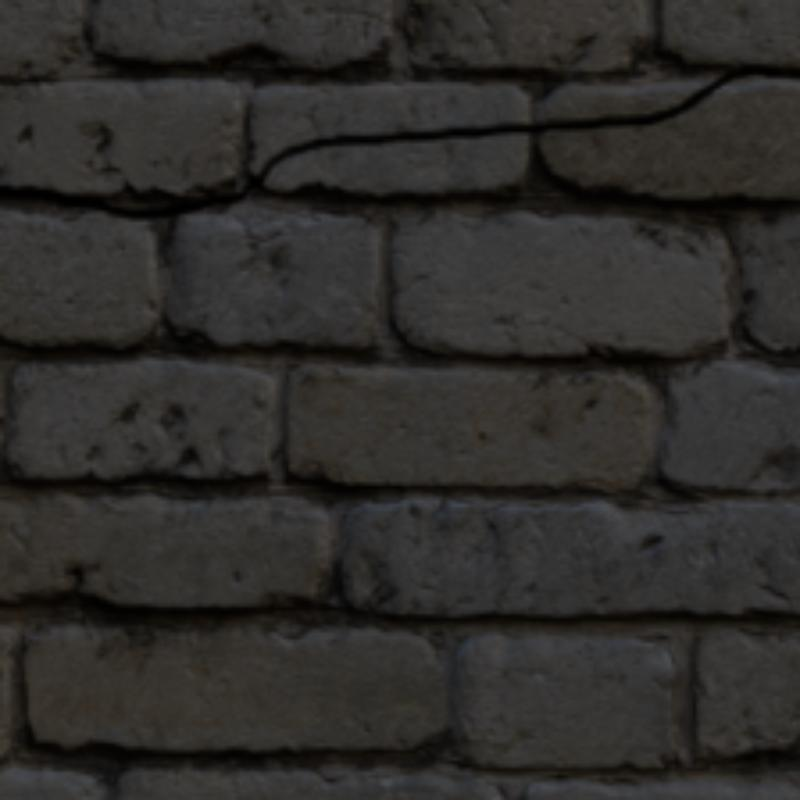pothole: (0, 68, 796, 214)
